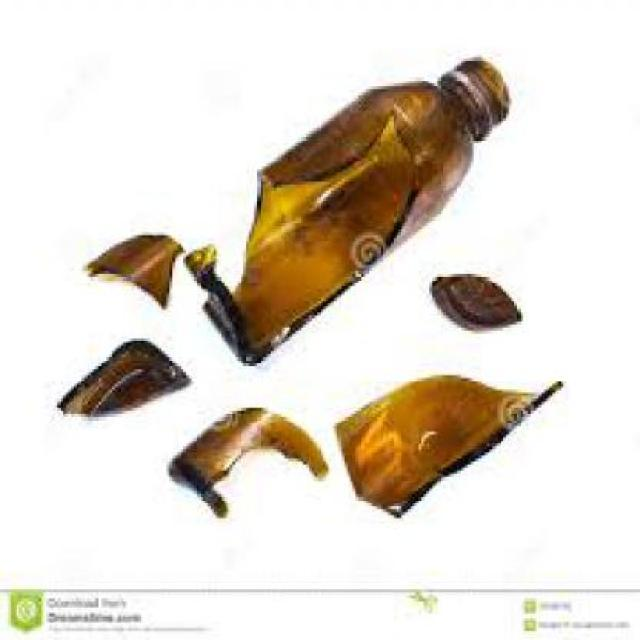kaca: (180, 57, 509, 363), (331, 372, 558, 516), (165, 404, 328, 518), (56, 337, 190, 414), (80, 232, 183, 303), (429, 268, 517, 340)
